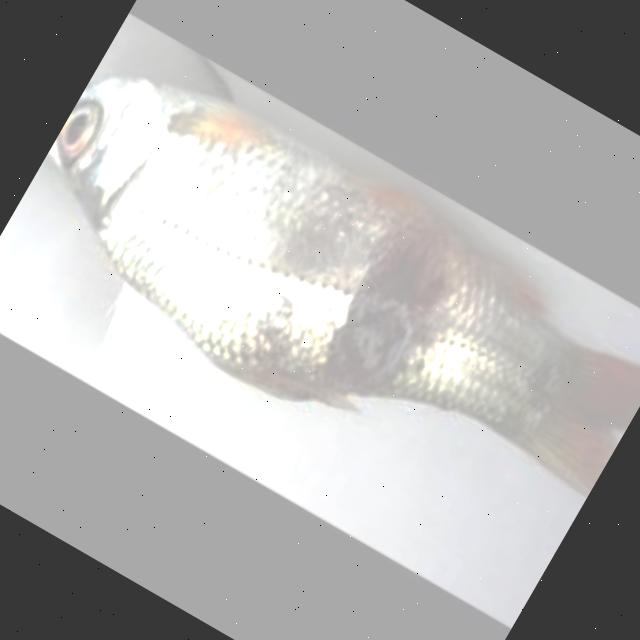Columnaris Disease: (56, 79, 640, 495)
